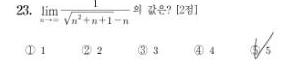choice: (250, 41, 262, 60)
not-choice: (23, 44, 37, 57), (80, 43, 93, 57), (192, 43, 205, 56), (136, 44, 148, 57)
